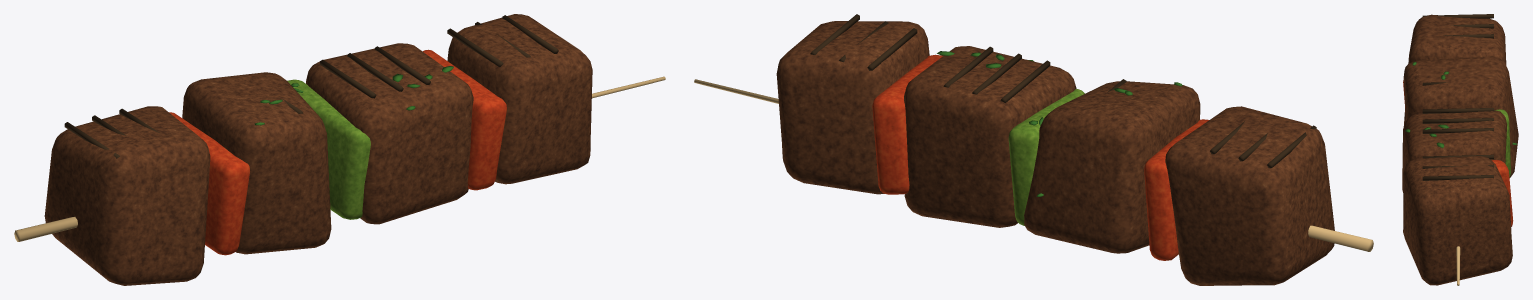
File: beef_skewer.glb
The picture shows the model from 3 angles, left to right: view 1: azimuth 30°, elevation 25°; view 2: azimuth 150°, elevation 25°; view 3: azimuth 270°, elevation 25°; orthographic projection. The views are drawn at different scales.
Parts seen in each view (by area): view 1: beef_skewer; view 2: beef_skewer; view 3: beef_skewer.
Boxes of the visible parts, <box> form: beef_skewer: <box>14,14,665,285</box>; beef_skewer: <box>694,14,1373,285</box>; beef_skewer: <box>1402,14,1518,285</box>.
Size of the model in its own units: 0.142 by 0.0306 by 0.0294.
Materials: 1 (1 with a texture image).
